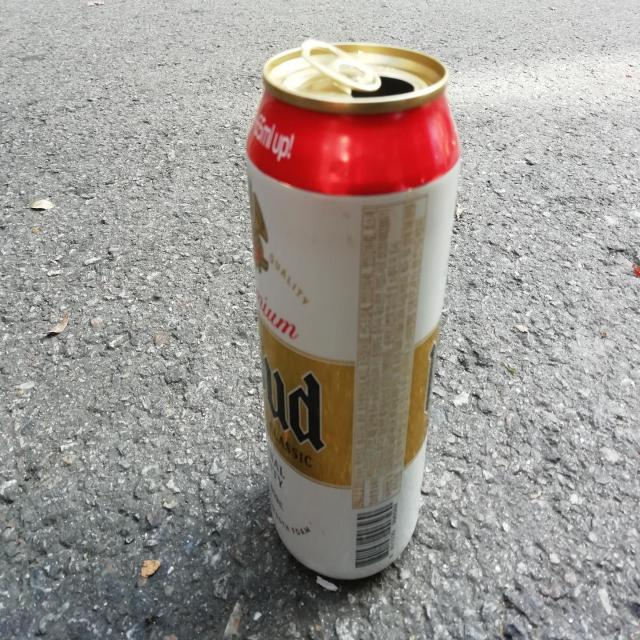can: (247, 39, 461, 579)
